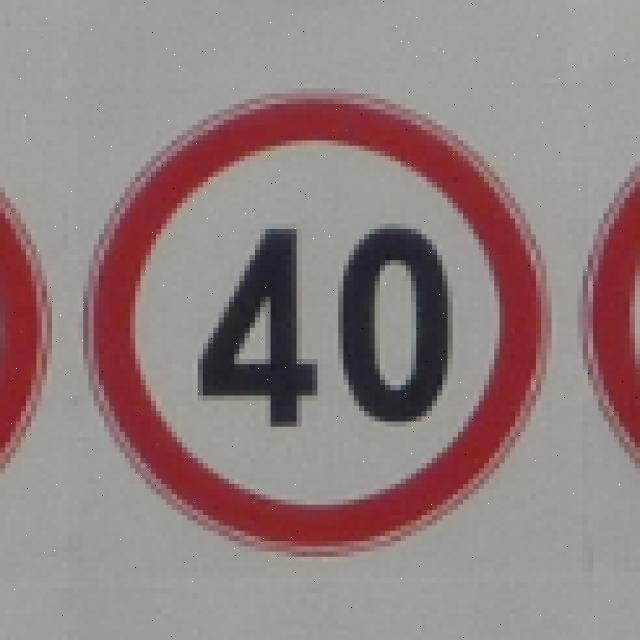speed limit 40: (88, 94, 549, 559)
